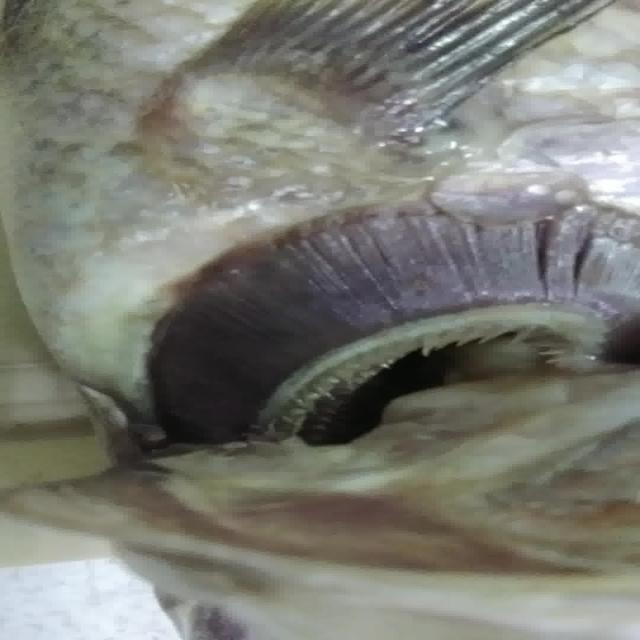Non-Fresh: (128, 176, 640, 447)
